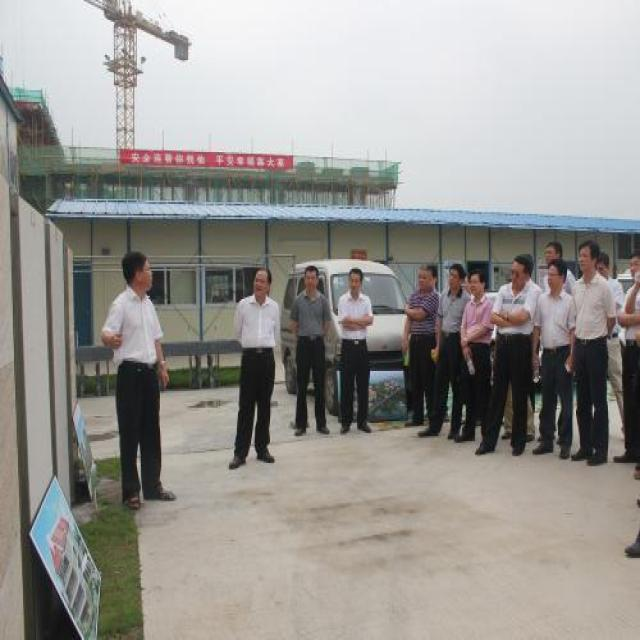no-helmet: (120, 244, 156, 296), (541, 257, 571, 296), (507, 252, 531, 294), (346, 260, 370, 298), (414, 257, 438, 291), (577, 235, 598, 272), (444, 262, 466, 296), (300, 261, 322, 294), (464, 267, 488, 296), (250, 266, 272, 297), (542, 241, 564, 269), (627, 244, 640, 289), (594, 250, 612, 280)
